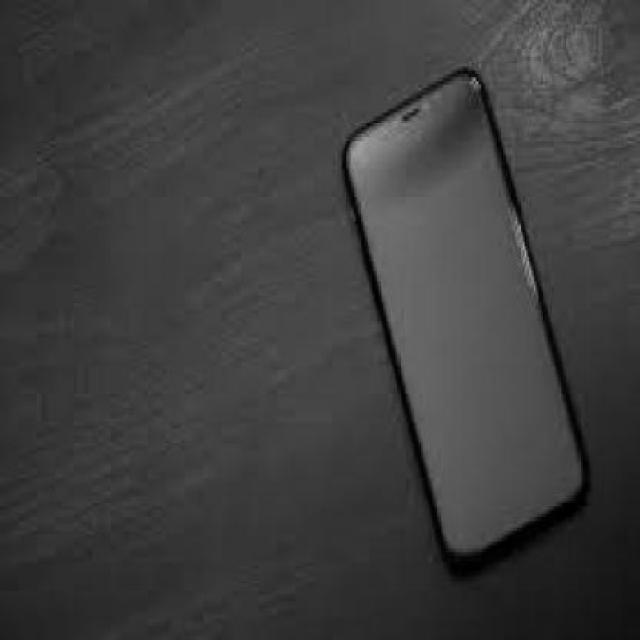fake: (342, 67, 592, 581)
